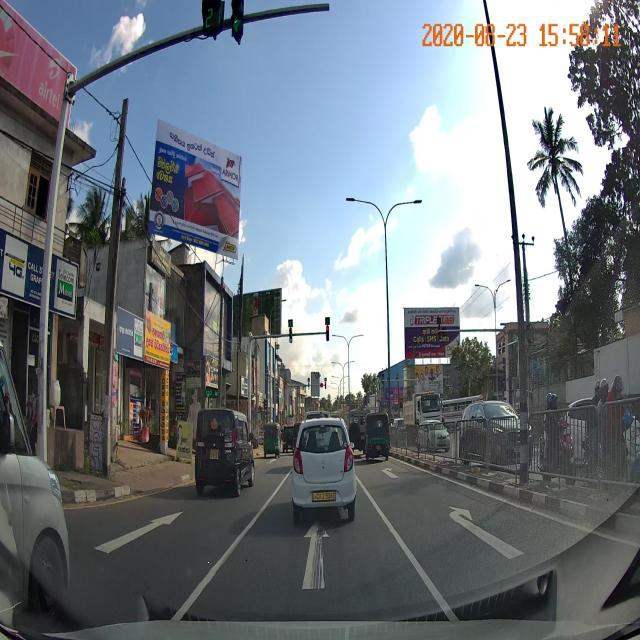forward: (184, 513, 444, 595)
